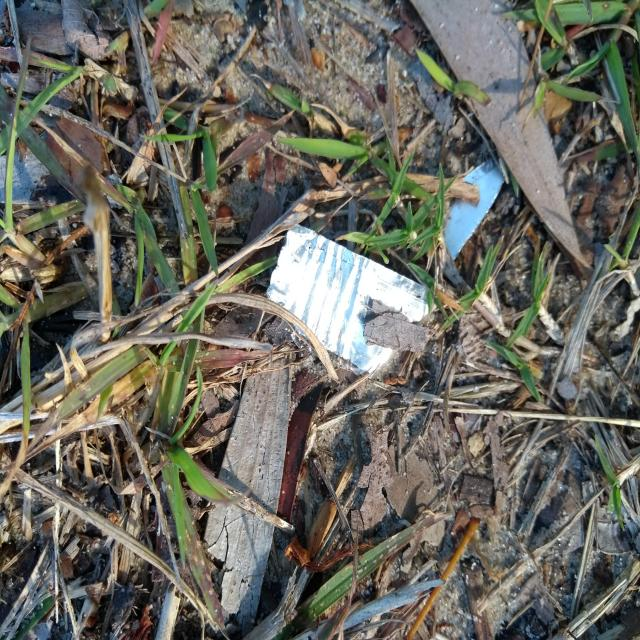litter: (261, 216, 431, 379)
